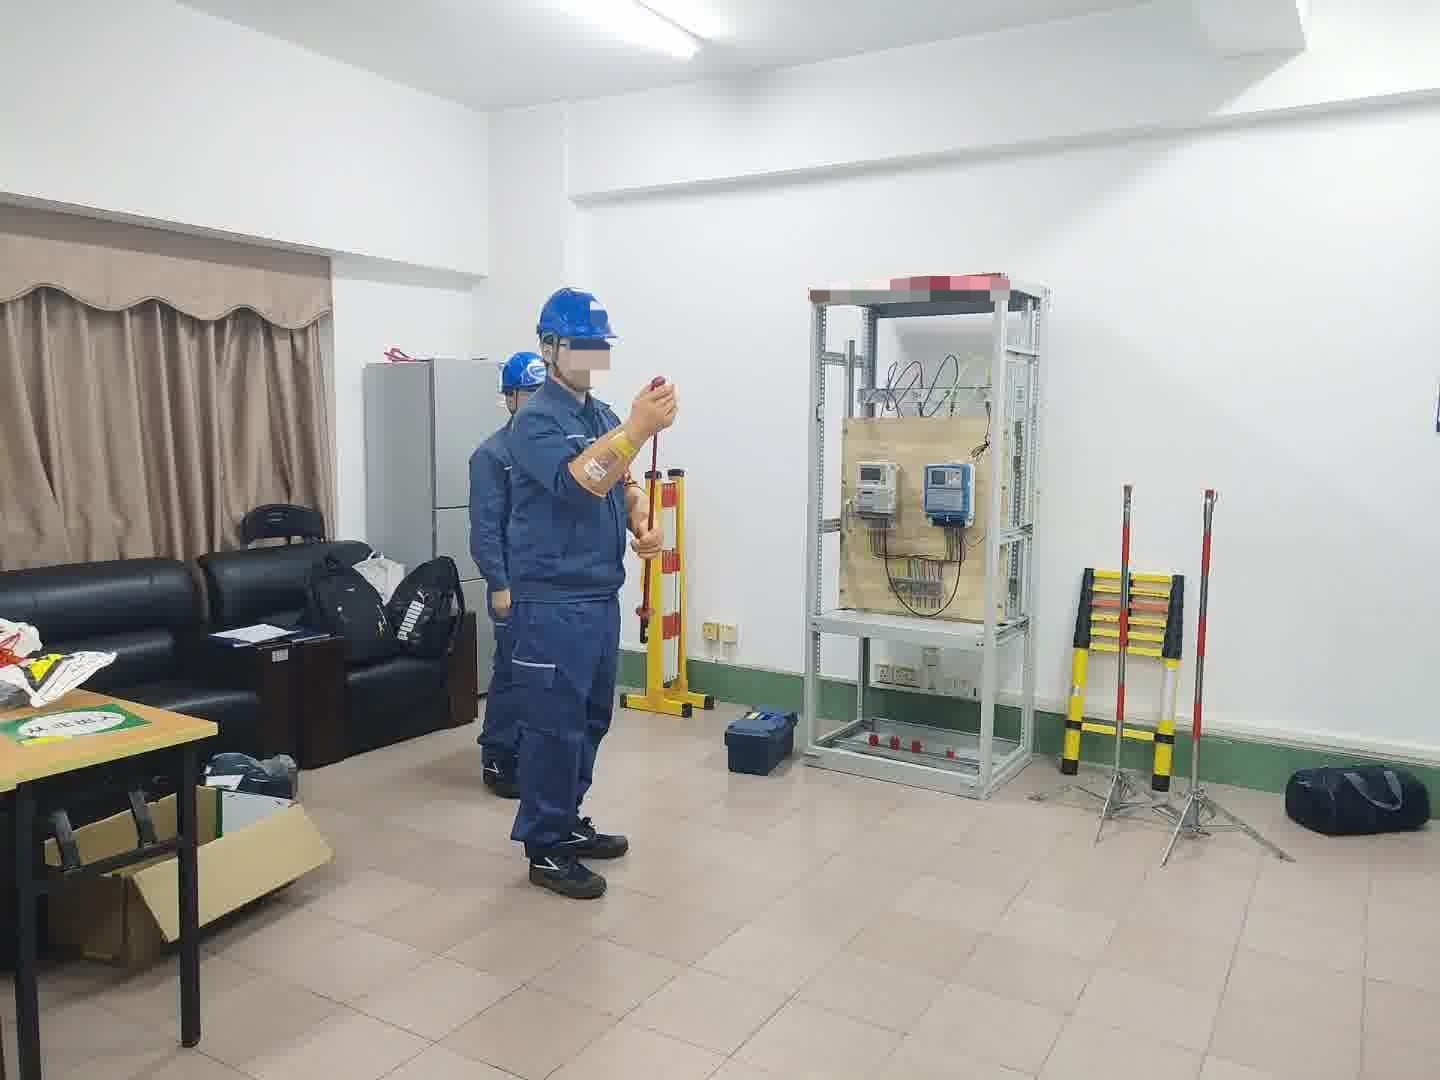halt: (537, 288, 620, 390), (500, 354, 549, 417)
inear: (544, 335, 569, 378)
